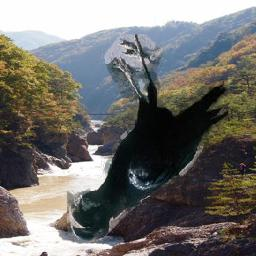Crow: (68, 34, 229, 242)
